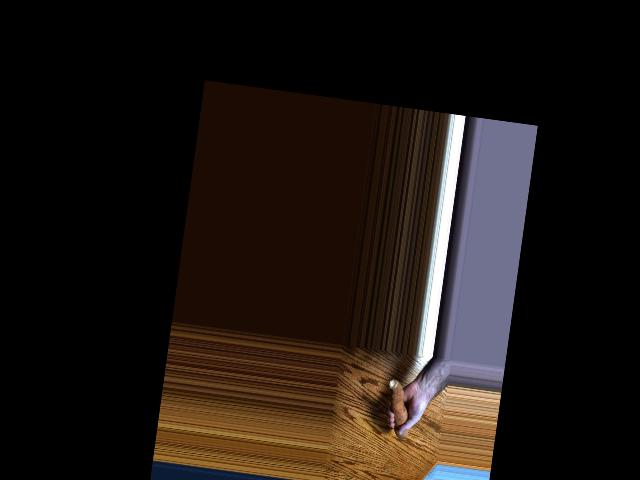sweet_potato: (382, 375, 414, 441)
